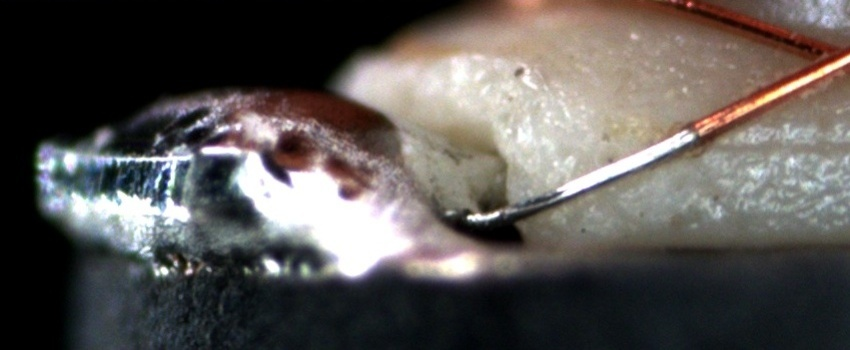CL: (784, 22, 845, 92)
DL: (716, 116, 849, 172)
TS: (458, 124, 700, 227)
